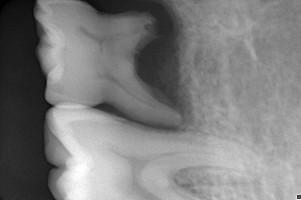Dental Caries: (138, 0, 195, 125)
Endo-Periodontal Lesion: (173, 167, 213, 200)
